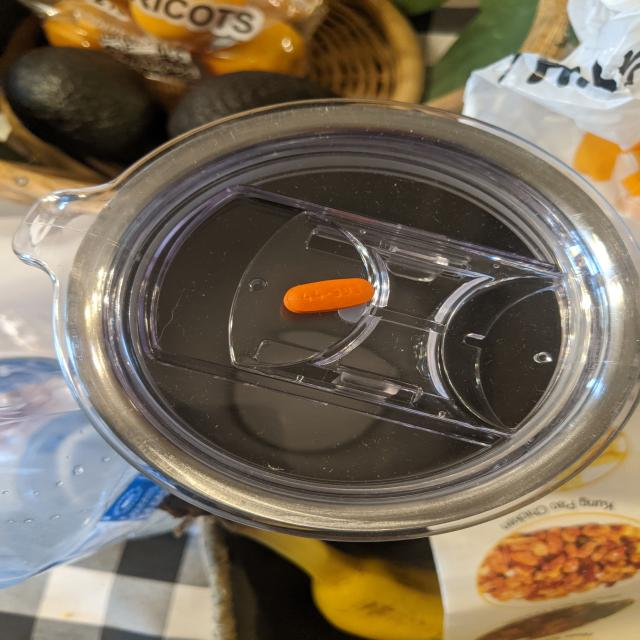non-organic waste: (282, 277, 377, 315)
